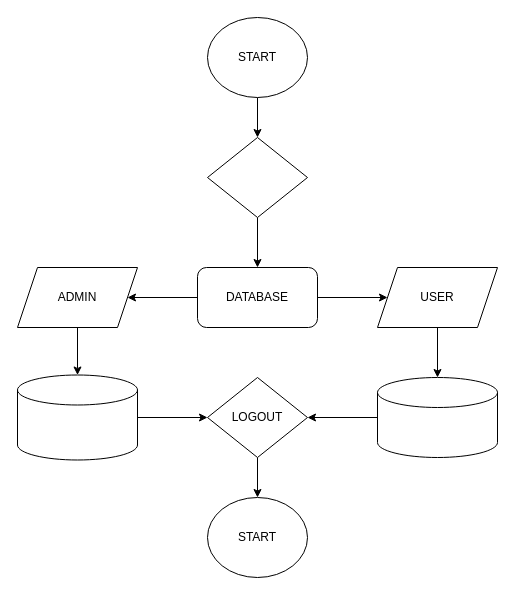
Some shapes in this 515 by 595 pixel diagram are drawn without their labels. Each missing label, with the centre of its shape:
ADMIN DASHBOARD: (77,417)
LOGIN: (257,177)
USER DASHBOARD: (437,417)
